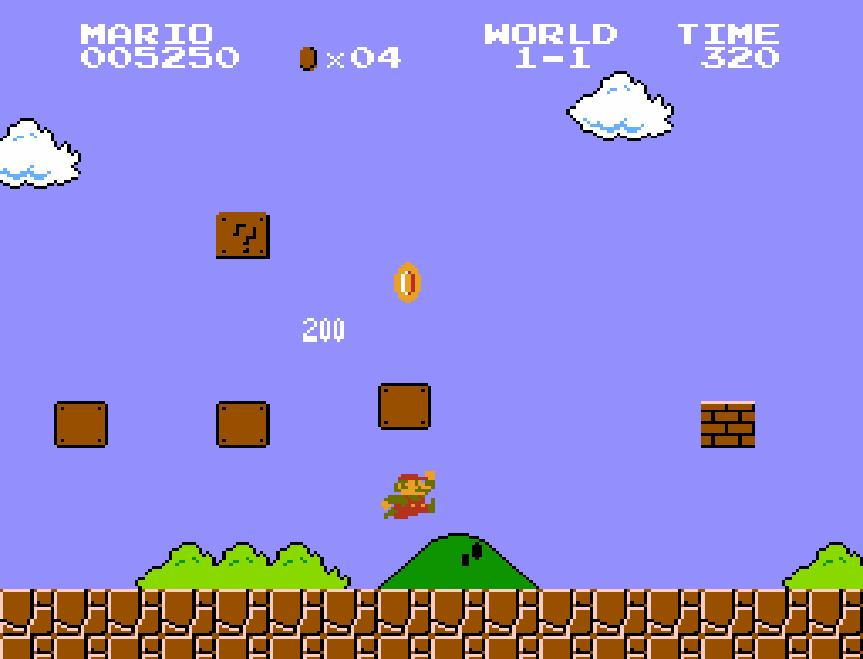little_mario: (379, 470, 437, 520)
